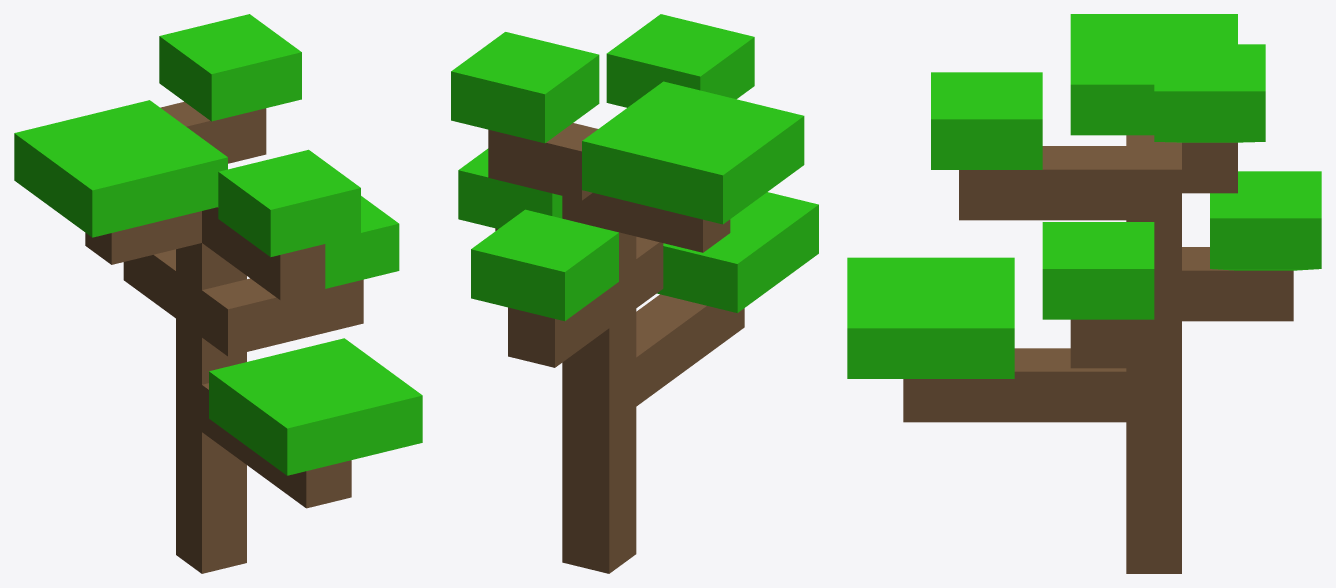
The model's file is trees_3_light.fbx.
3 views of the same model, side by side, from view 1: azimuth 30°, elevation 25°; view 2: azimuth 150°, elevation 25°; view 3: azimuth 270°, elevation 25° (orthographic). The views are drawn at different scales.
Visible parts, largest first — view 1: Cube.062; view 2: Cube.062; view 3: Cube.062.
Part boxes in pixels (x1,y1,x2,y2): Cube.062: (14, 14, 422, 573); Cube.062: (451, 14, 818, 573); Cube.062: (847, 14, 1321, 573).
Size of the model in its own units: 650 by 1025 by 850.
Materials: 1 (1 with a texture image).
